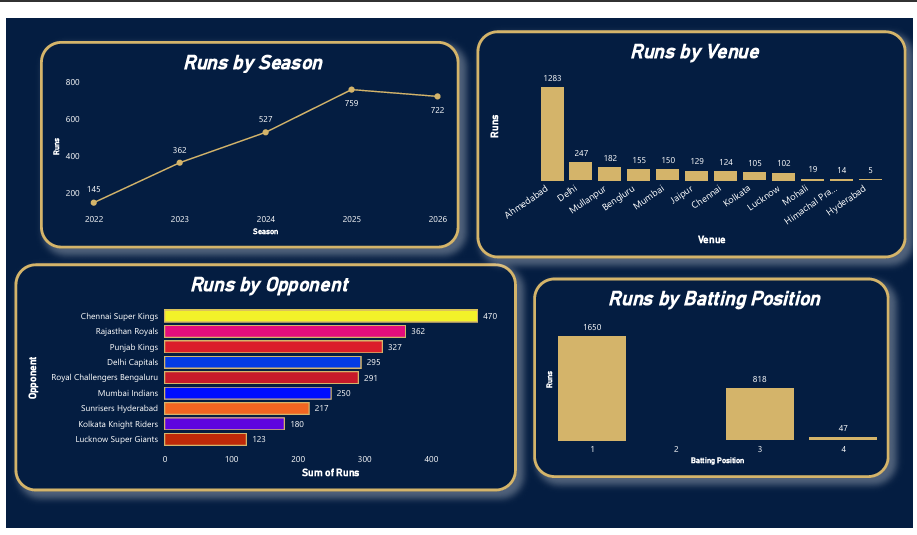

This screenshot's page, from the dashboard's own definition file:
{"tool":"powerbi","page":{"name":"Performance Analysis","canvas":[1280,720],"ordinal":1},"visuals":[{"type":"lineChart","fields":{"Category":["ipl_performance_analysis innings.Season"],"Y":["Imp_measure.Runs"]},"box":[48.2,30.6,591.8,292.9],"z":0},{"type":"clusteredBarChart","title":"Runs by Opponent","fields":{"Category":["ipl_performance_analysis innings.Opponent"],"Y":["Sum(ipl_performance_analysis innings.Runs)"]},"box":[11.8,344.7,709.4,322.4],"z":1000},{"type":"clusteredColumnChart","fields":{"Category":["ipl_performance_analysis innings.Venue"],"Y":["Imp_measure.Runs"]},"box":[663.5,16.5,607.1,321.2],"z":2000},{"type":"clusteredColumnChart","fields":{"Category":["ipl_performance_analysis innings.Batting_Position"],"Y":["Imp_measure.Runs"]},"box":[743.5,364.7,503.5,283.5],"z":3000}]}

Visuals, with their boxes on the page's 1280x720 design canvas (x1, y1, x2, y2). These are canvas units, not pixel positions in the 917x535 screenshot, which may show the page scaled, cropped or inside an application window:
lineChart - ipl_performance_analysis innings.Season x Imp_measure.Runs: {"x1": 48, "y1": 31, "x2": 640, "y2": 324}
"Runs by Opponent" clusteredBarChart: {"x1": 12, "y1": 345, "x2": 721, "y2": 667}
clusteredColumnChart - ipl_performance_analysis innings.Venue x Imp_measure.Runs: {"x1": 664, "y1": 16, "x2": 1271, "y2": 338}
clusteredColumnChart - ipl_performance_analysis innings.Batting_Position x Imp_measure.Runs: {"x1": 744, "y1": 365, "x2": 1247, "y2": 648}
